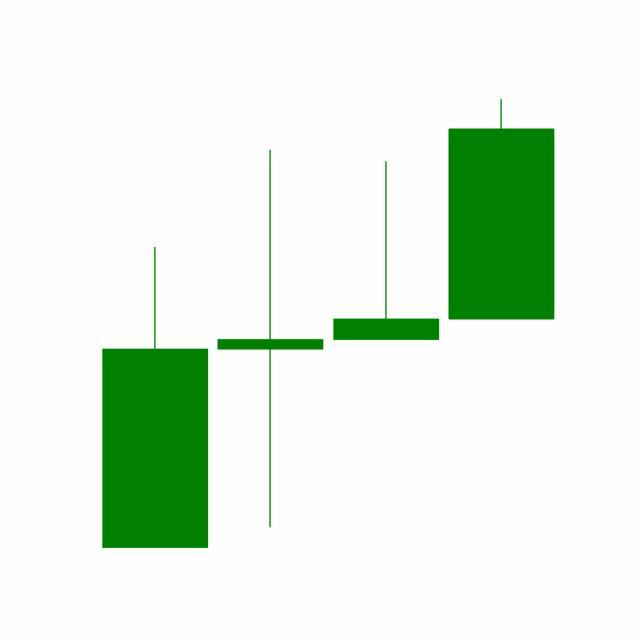Marubozu: (444, 98, 560, 323)
